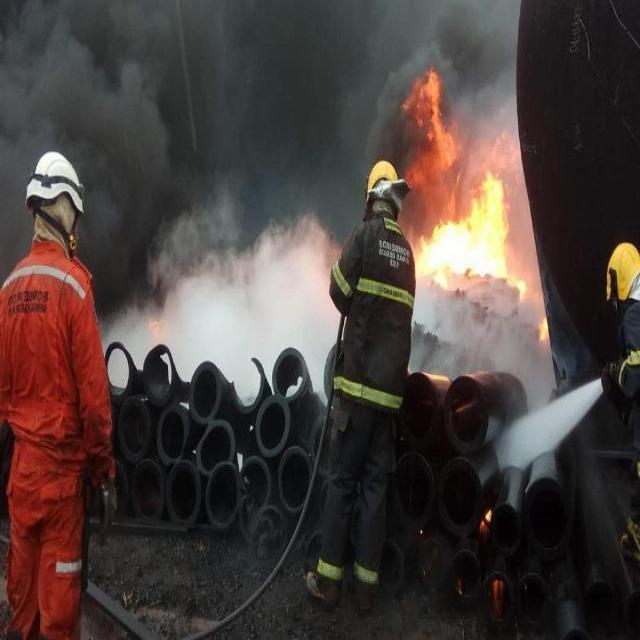fire: (393, 61, 520, 291)
